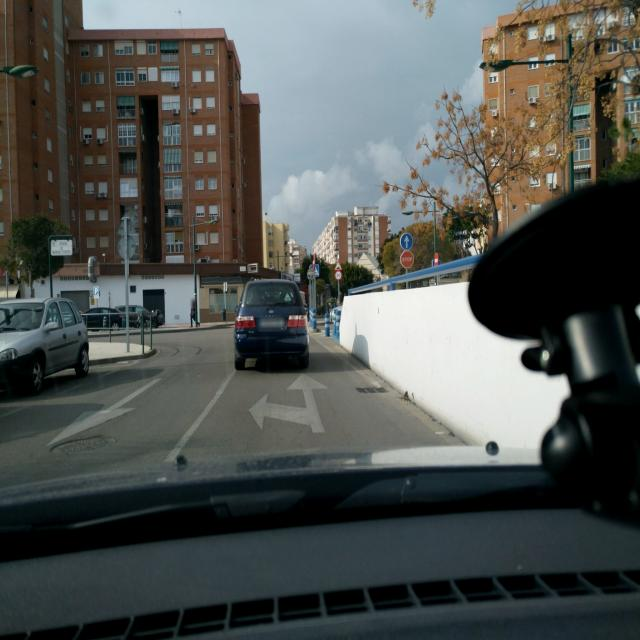car: (0, 296, 90, 398), (233, 278, 311, 371), (80, 306, 124, 329), (118, 304, 160, 328)
